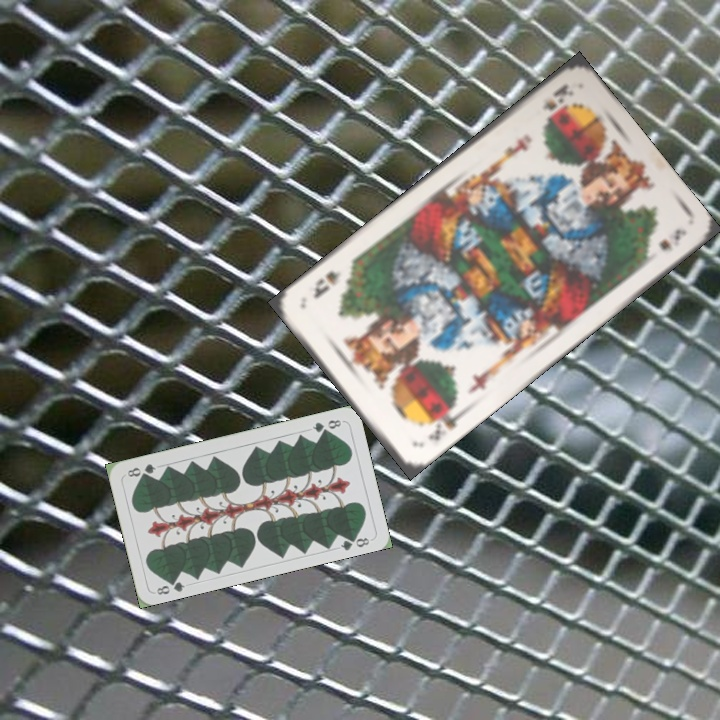G8: (153, 574, 187, 598), (308, 416, 344, 435)
SK: (424, 401, 464, 444), (538, 80, 577, 113)
